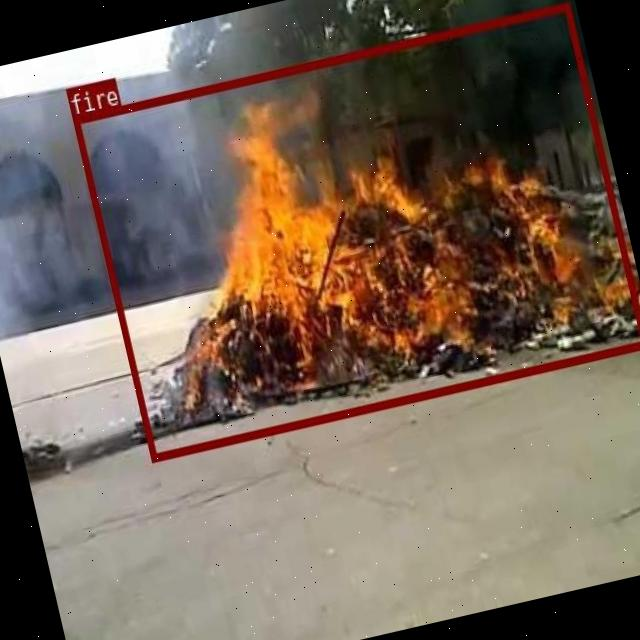fire: (71, 1, 640, 461)
